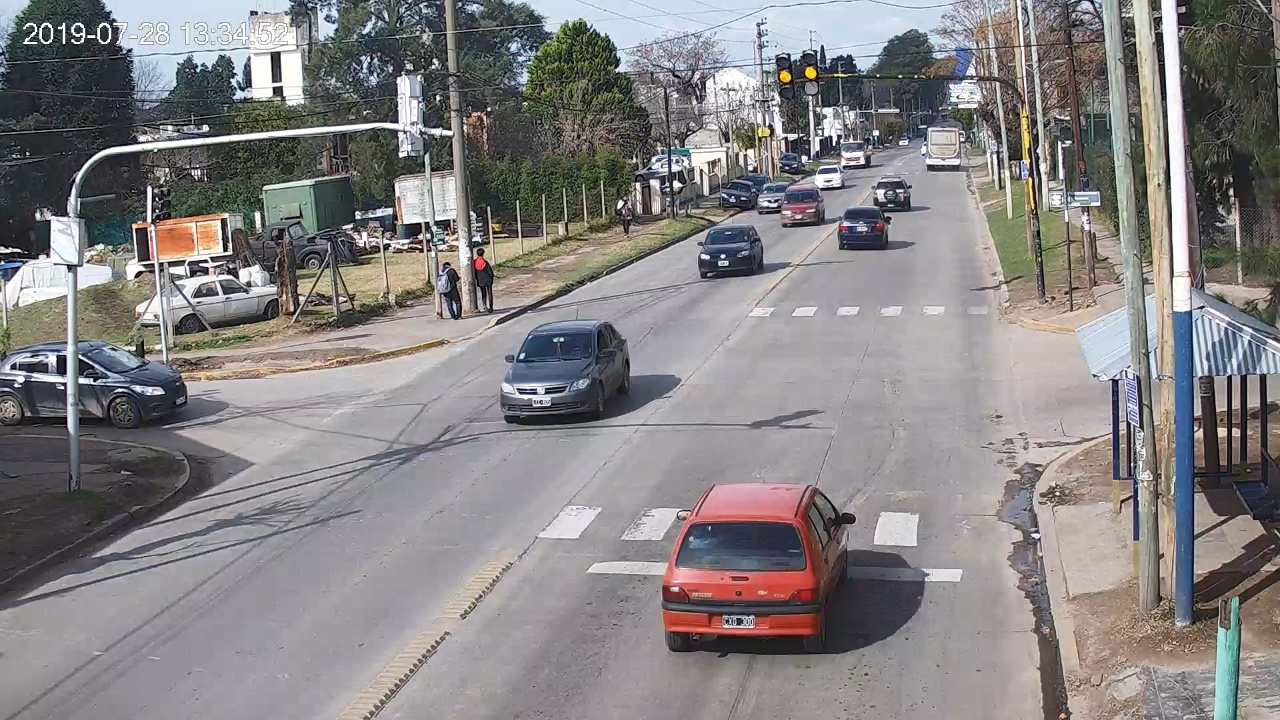car: (661, 483, 856, 654), (837, 206, 892, 250)
front car: (501, 319, 631, 424), (697, 224, 764, 278)
traffic light: (776, 54, 794, 98), (804, 51, 819, 95)
